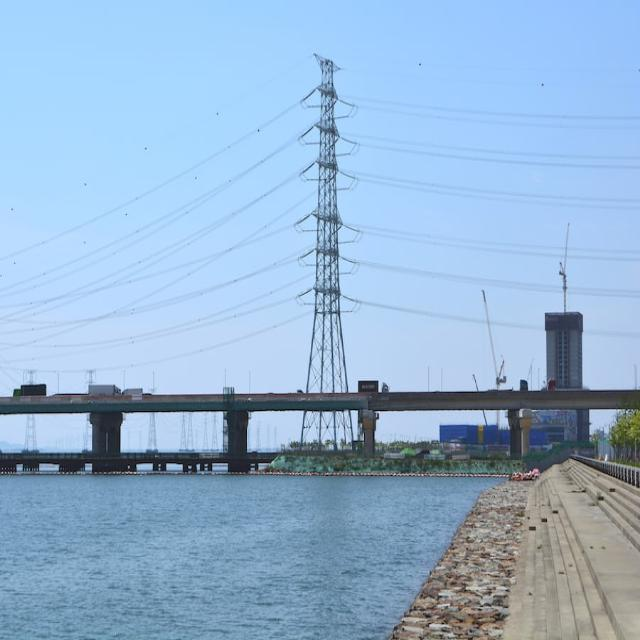transmission tower: (280, 33, 379, 399)
